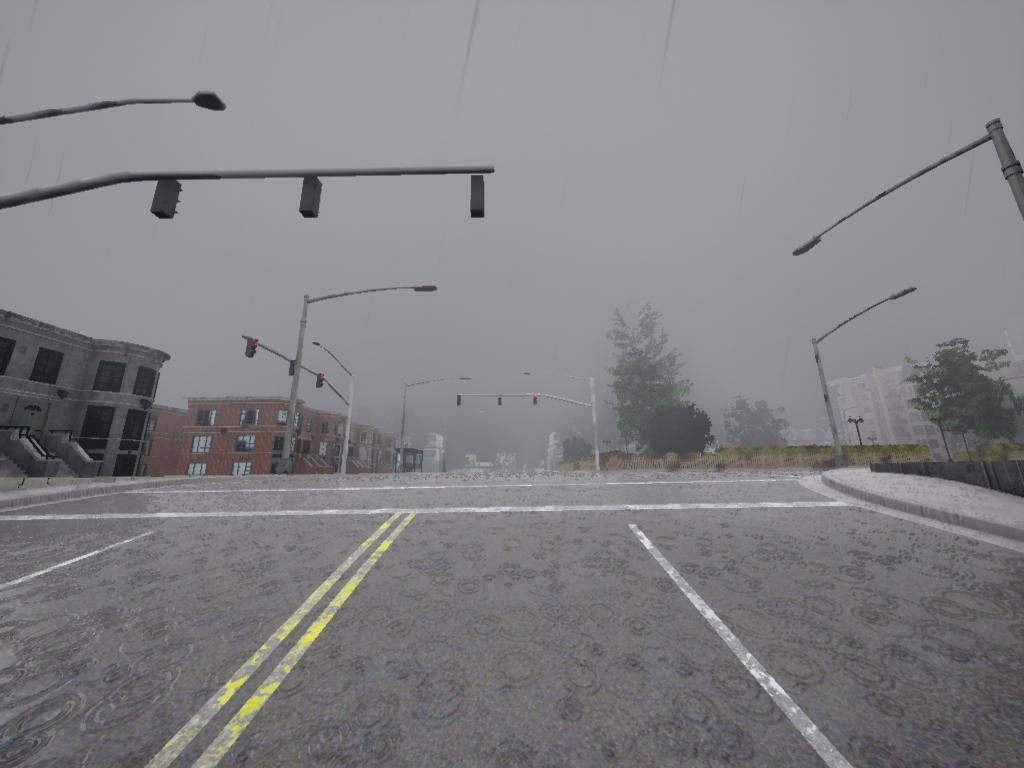traffic_light: (153, 177, 184, 222), (300, 177, 325, 221), (469, 176, 487, 219), (247, 339, 261, 361), (317, 372, 325, 390), (290, 362, 297, 377), (457, 395, 462, 410), (497, 398, 503, 408), (533, 395, 538, 407)
